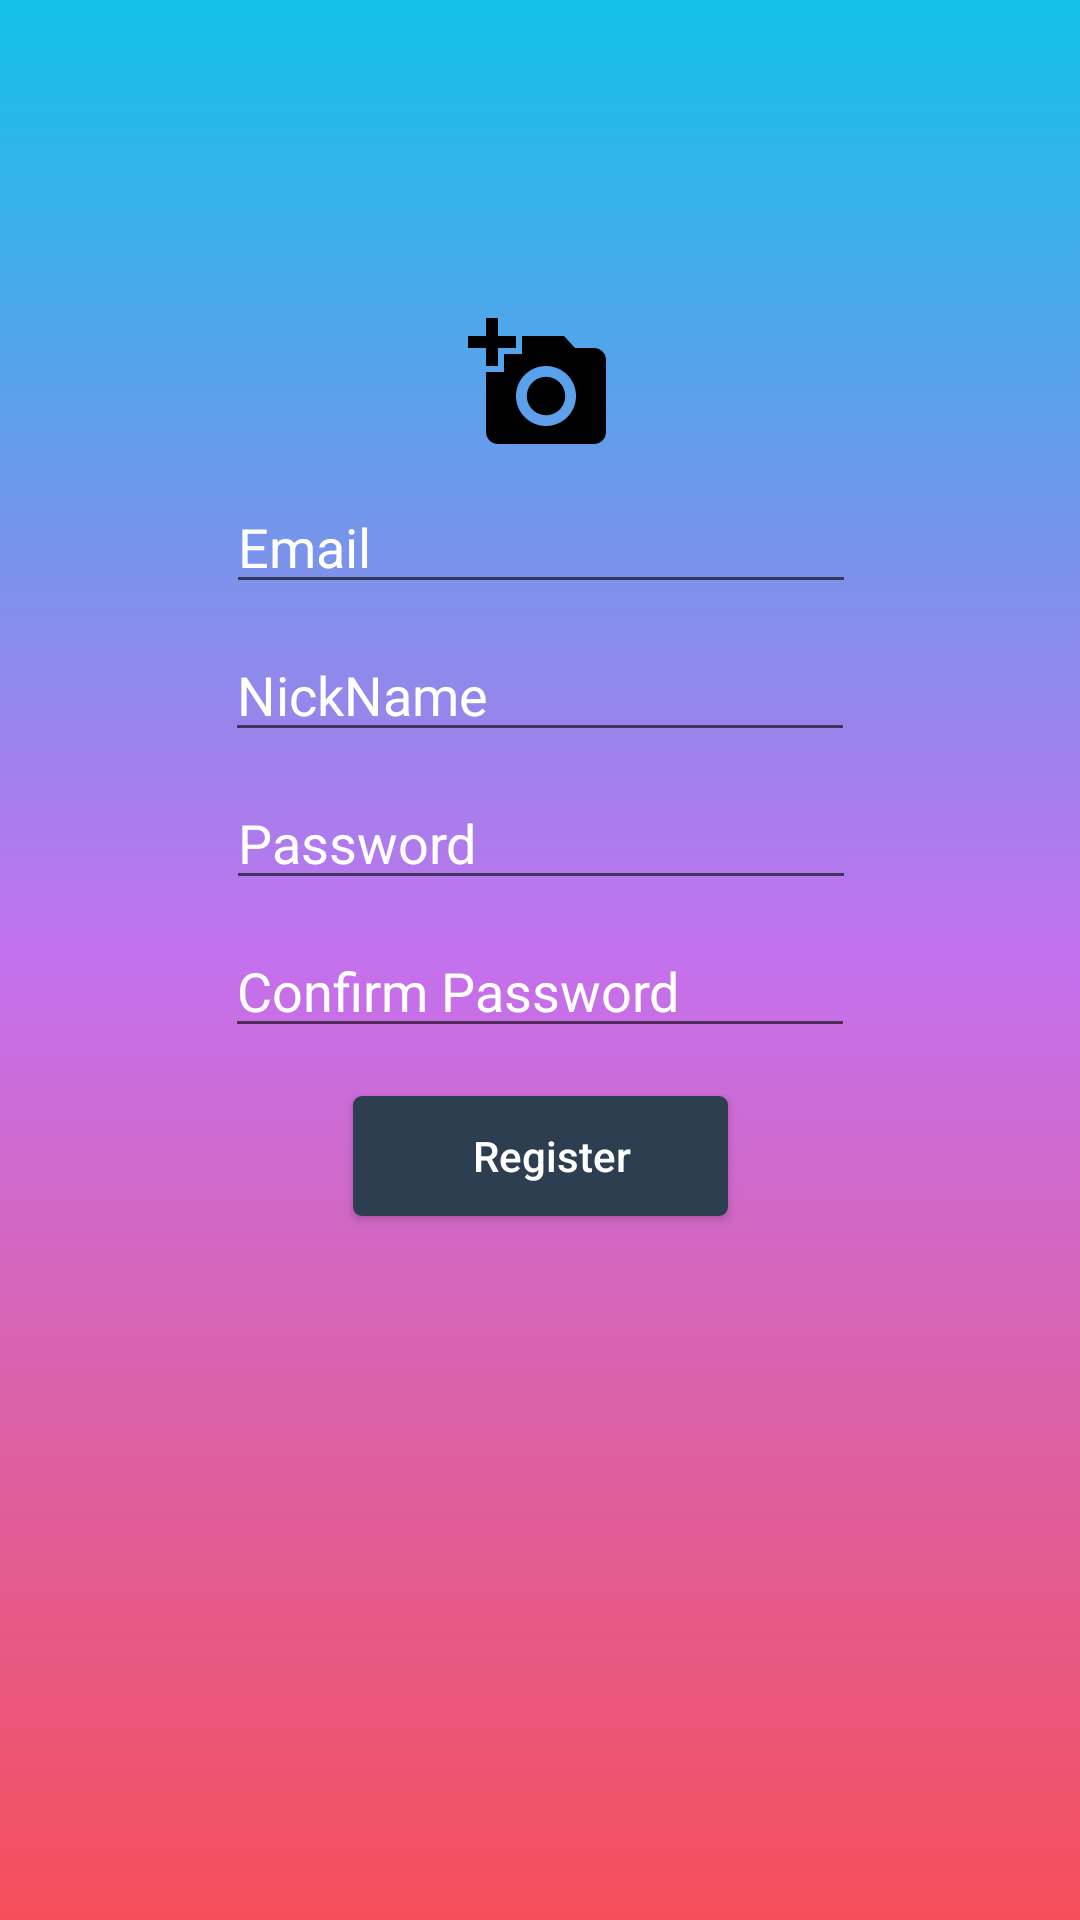

Screen size 1080w x 1920h. Icon name, then its box in pixels as (x1, y1, x2, y2):
add photo: (486, 336, 606, 444)
